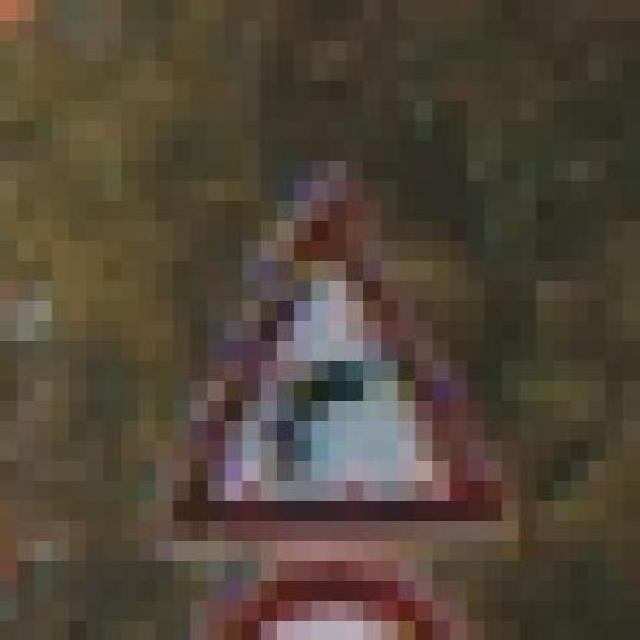Dangerous Rright Curve Ahead: (121, 160, 536, 560)
